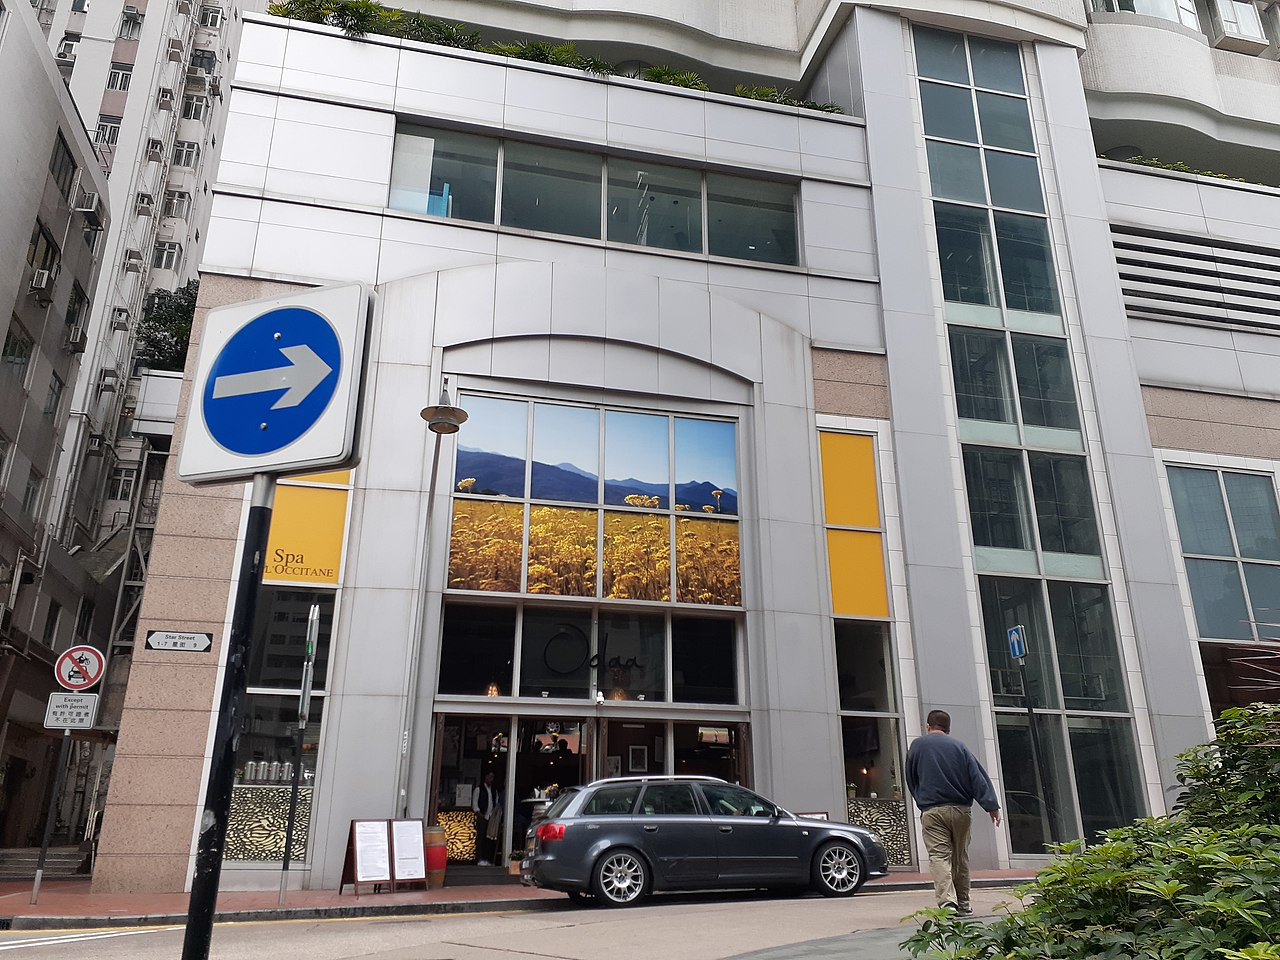No Car: (55, 644, 105, 690)
Turn Right: (204, 307, 349, 465)
